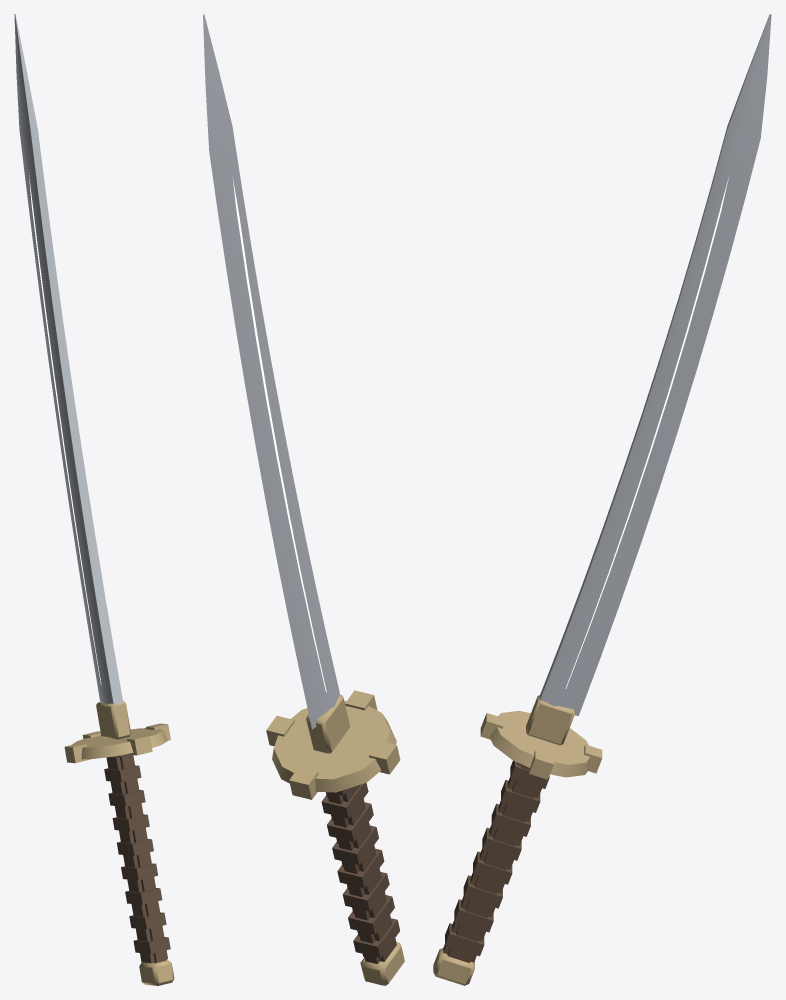
File: ronin_odachi.glb
3 renders of one model, left to right at view 1: azimuth 30°, elevation 25°; view 2: azimuth 150°, elevation 25°; view 3: azimuth 270°, elevation 25°, orthographic. The views are drawn at different scales.
Visible parts, largest first — view 1: SM_Weapon_BloodmoonOdachi_A; view 2: SM_Weapon_BloodmoonOdachi_A; view 3: SM_Weapon_BloodmoonOdachi_A.
Part boxes in pixels (<box>): SM_Weapon_BloodmoonOdachi_A: <box>14,14,174,985</box>; SM_Weapon_BloodmoonOdachi_A: <box>203,14,404,985</box>; SM_Weapon_BloodmoonOdachi_A: <box>433,14,771,985</box>.
Bounding box in the file's own units: 0.136 × 1.18 × 0.3749.
